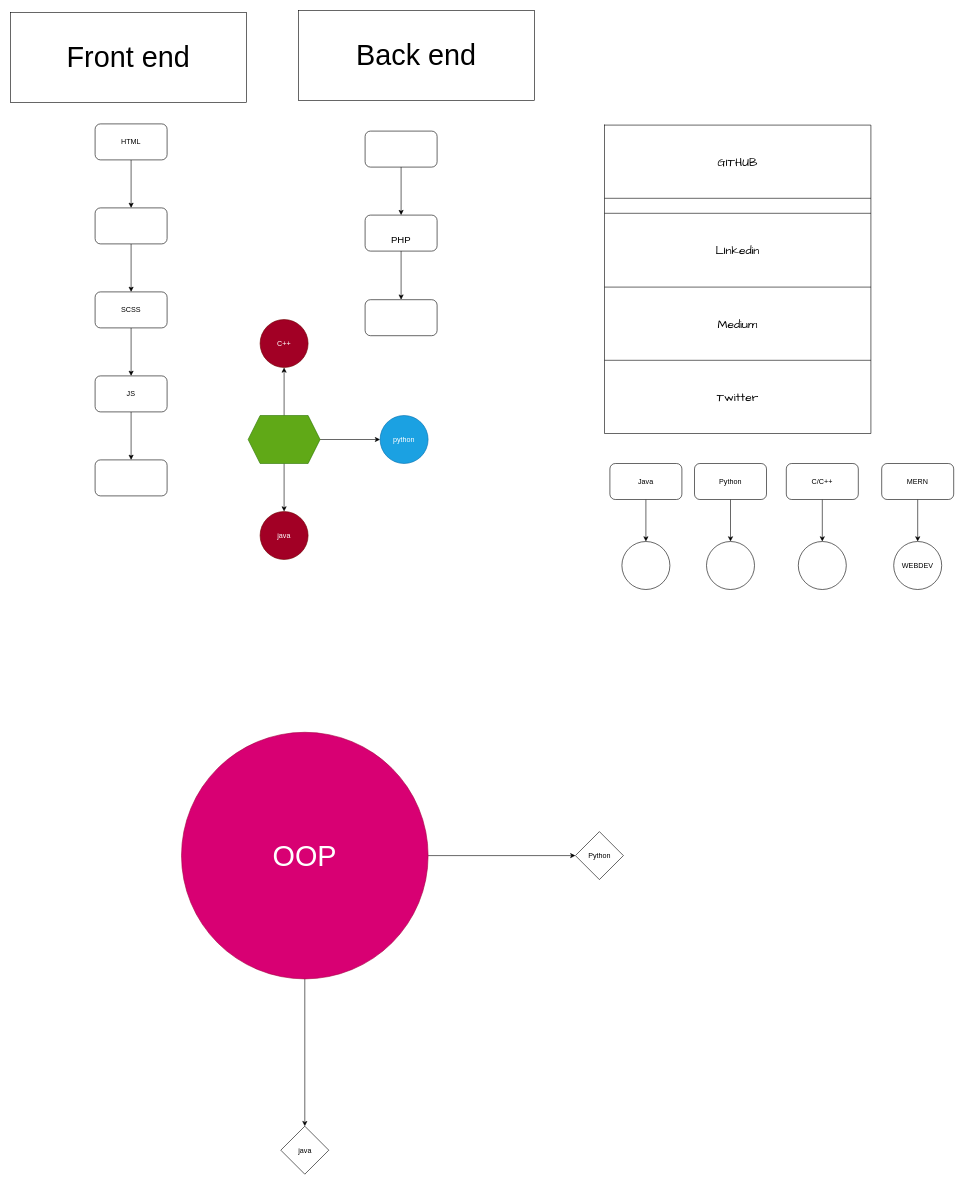
Some shapes in this 964 by 1185 pixel diagram are drawn without their labels. The centre of each missing label's shape, as x and y in pixels:
"App dev DSA" goes at point 645,565.
"CSS" goes at point 130,225.
"Data science" goes at point 730,565.
"DSA" goes at point 284,439.
"Game DEV DSA" goes at point 822,565.
"Mongoose" goes at point 400,317.
"Mysql" goes at point 400,148.
"REACT" goes at point 130,477.
